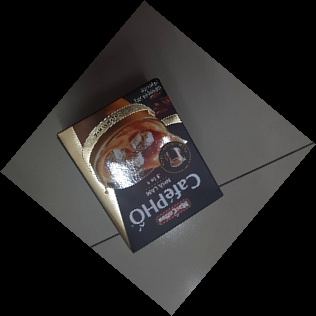CF pho: (55, 77, 224, 256)
